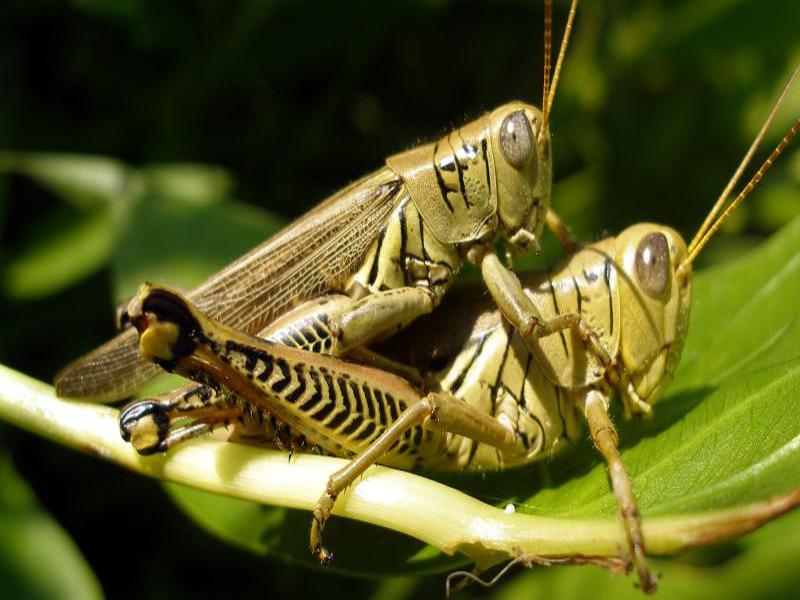Grasshopper: (75, 96, 724, 525)
